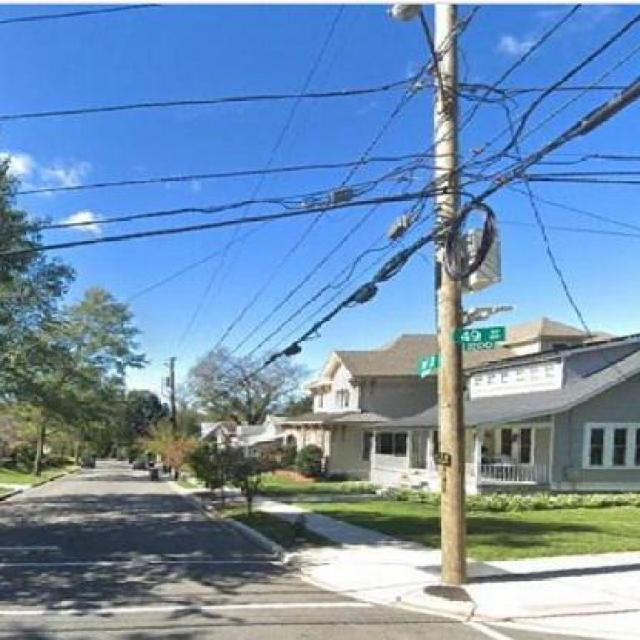pole: (377, 0, 523, 572)
